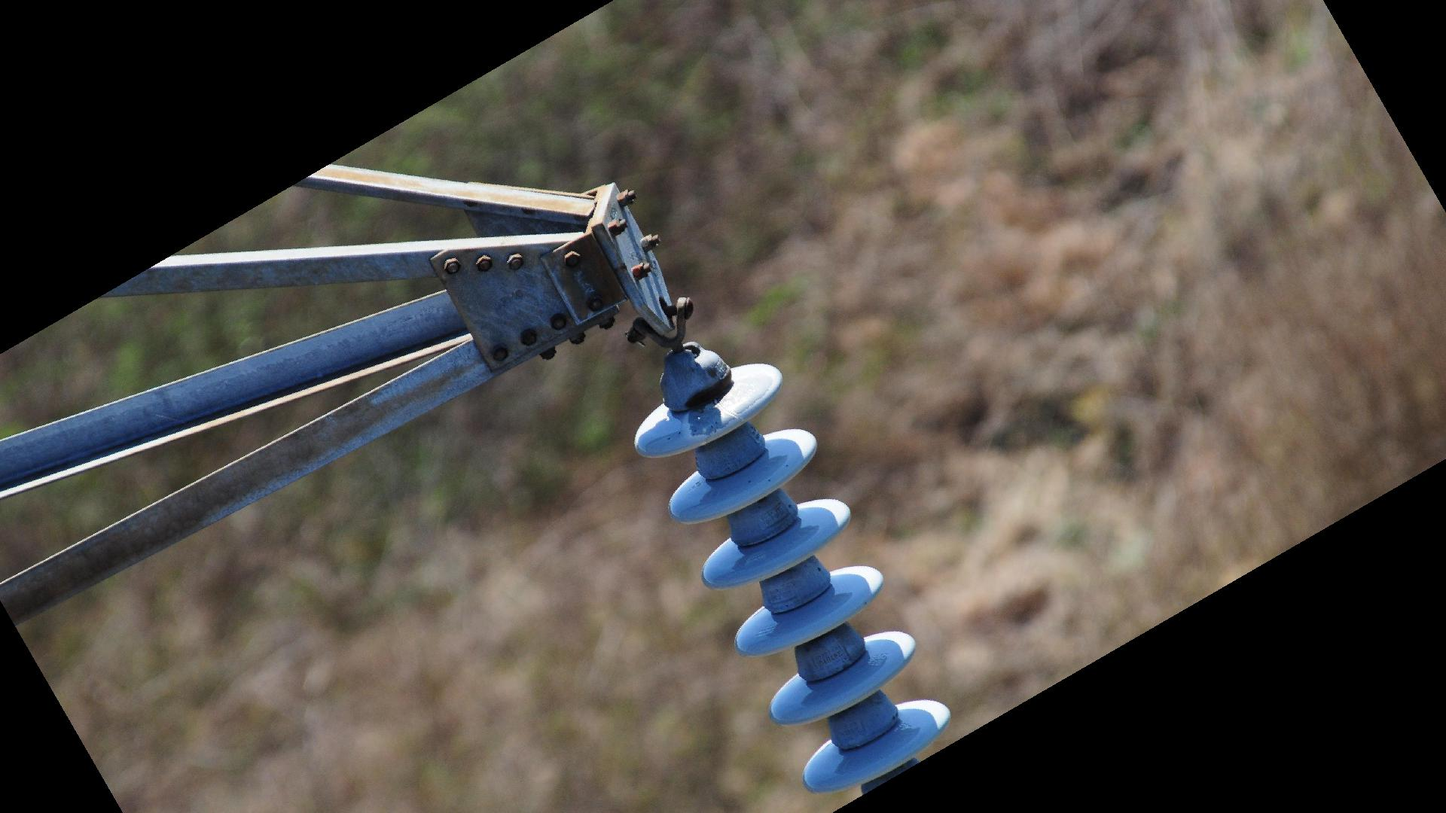insulator: (628, 357, 959, 798)
insulator_flashover: (684, 367, 770, 439)
